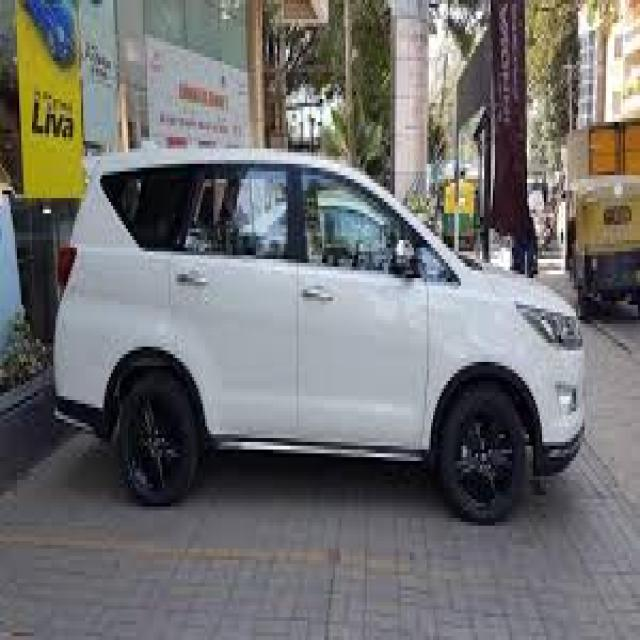light_vehicle: (54, 148, 585, 528)
